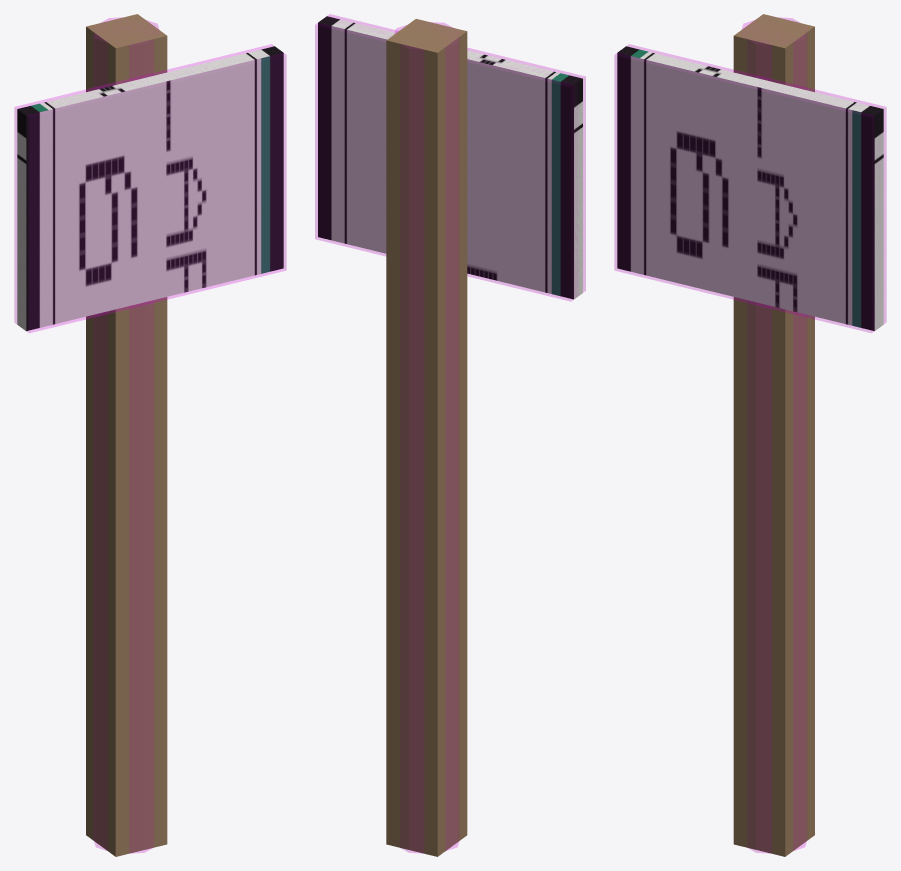
File: lapsign_06.dae
3 renders of one model, left to right at view 1: azimuth 30°, elevation 25°; view 2: azimuth 150°, elevation 25°; view 3: azimuth 330°, elevation 25°, orthographic.
Visible parts, largest first — view 1: sign, Colmesh_sign-1, post, Colmesh_post-1; view 2: post, sign, Colmesh_sign-1, Colmesh_post-1; view 3: sign, Colmesh_sign-1, post, Colmesh_post-1.
Boxes of the visible parts, box(x1,y1,x2,y2) form: sign: box(17, 46, 283, 331); Colmesh_sign-1: box(14, 44, 286, 332); post: box(86, 14, 167, 856); Colmesh_post-1: box(94, 17, 158, 853); post: box(386, 19, 467, 856); sign: box(318, 16, 582, 299); Colmesh_sign-1: box(315, 14, 585, 301); Colmesh_post-1: box(394, 22, 458, 853); sign: box(617, 46, 883, 331); Colmesh_sign-1: box(614, 44, 886, 332); post: box(733, 14, 814, 856); Colmesh_post-1: box(742, 17, 806, 853).
Bounding box in the file's own units: 0.5 × 0.165 × 1.5.
Materials: 3 (1 with a texture image).
